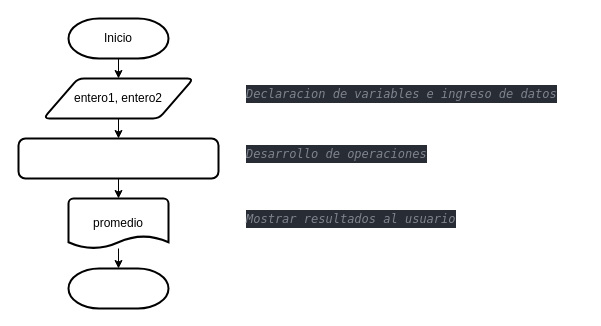
Some shapes in this 601 by 326 pixel diagram are drawn without their labels. The centre of each missing label's shape, as x and y in pixels:
Fin: (x=118, y=288)
promedio = (entero1+entero2)/2: (x=118, y=158)
